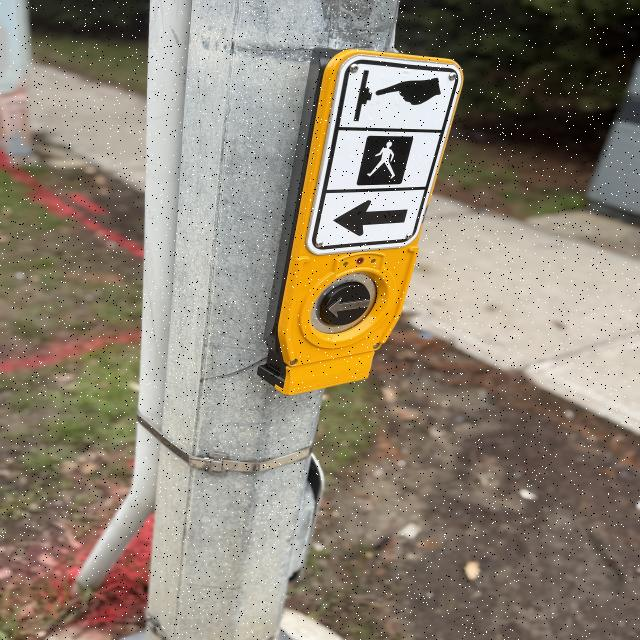Electrical Pole: (130, 4, 472, 640)
